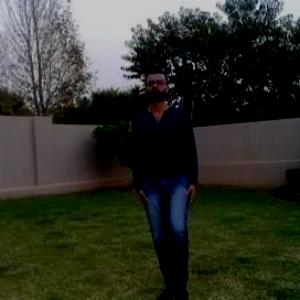follow: (132, 61, 202, 296)
